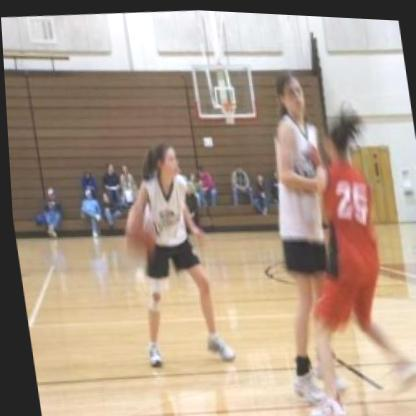basketball: (119, 213, 160, 263)
